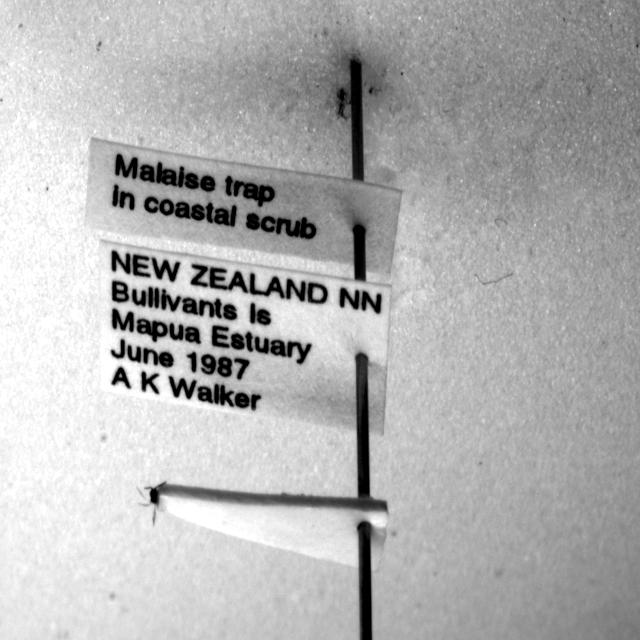typed_label: (100, 240, 391, 433), (86, 139, 401, 272)
